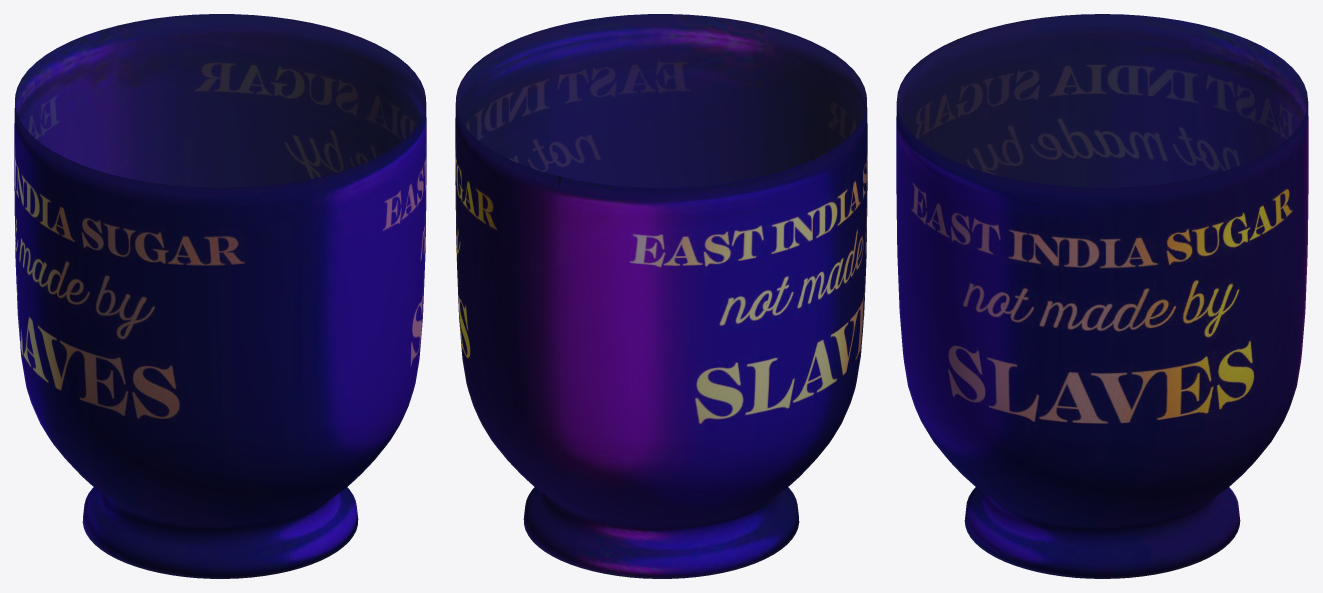
The model's file is sugarbowl.glb.
3 views of the same model, side by side, from view 1: azimuth 30°, elevation 25°; view 2: azimuth 150°, elevation 25°; view 3: azimuth 270°, elevation 25° (orthographic).
Visible parts, largest first — view 1: sugarbowl; view 2: sugarbowl; view 3: sugarbowl.
Boxes of the visible parts, x1=… form: sugarbowl: x1=14, y1=14, x2=426, y2=578; sugarbowl: x1=455, y1=14, x2=867, y2=578; sugarbowl: x1=896, y1=14, x2=1308, y2=578.
Size of the model in its own units: 0.2578 by 0.2915 by 0.2578.
Materials: 1 (1 with a texture image).
